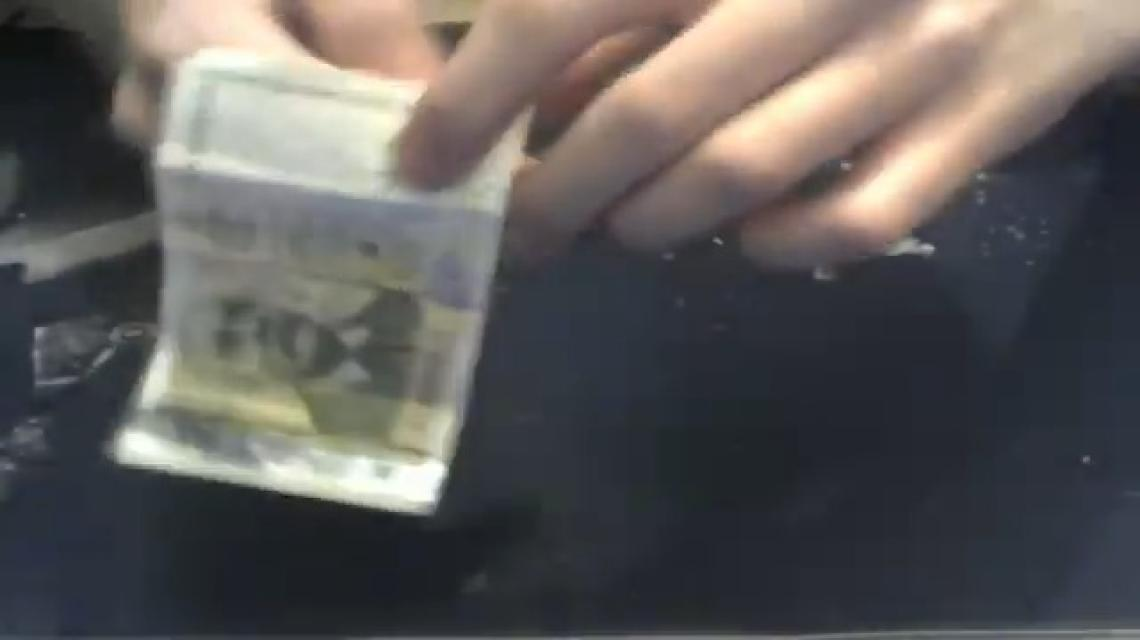10leva: (109, 48, 518, 517)
